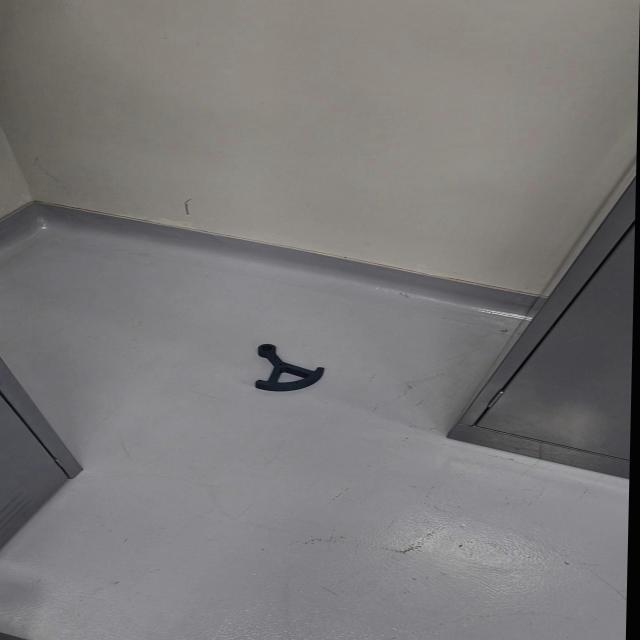haptic: (254, 344, 325, 392)
